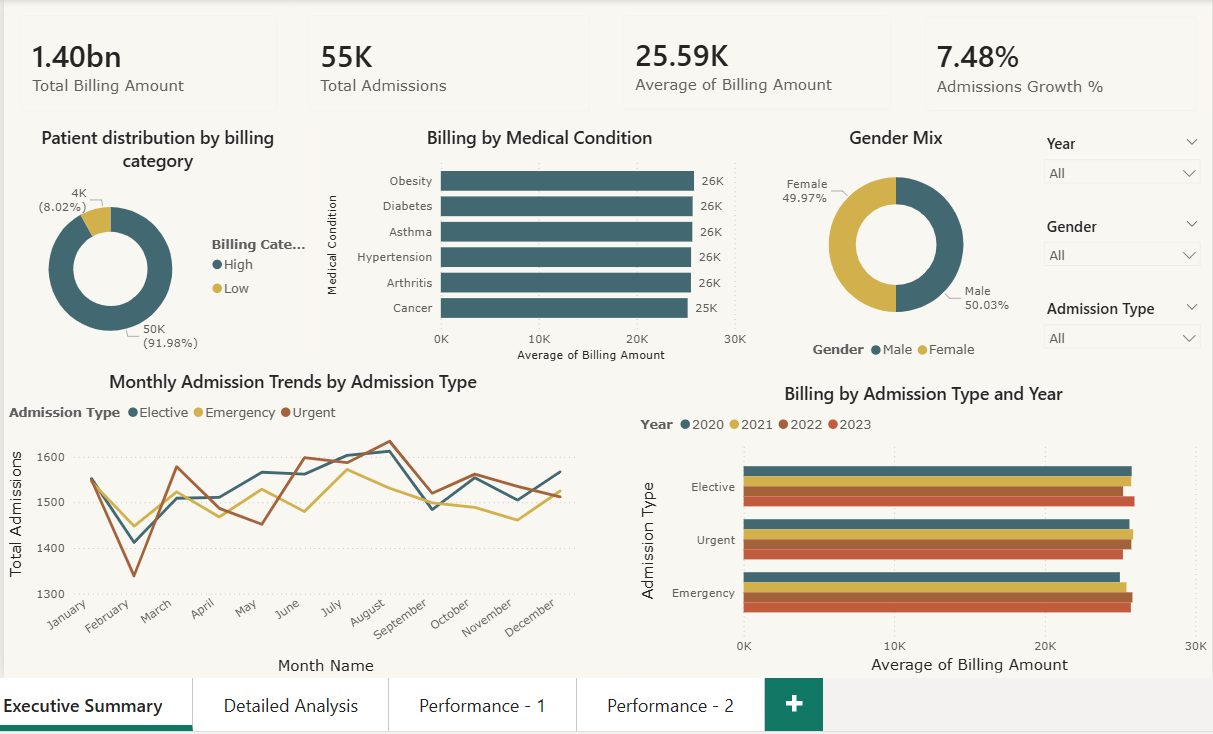

The dashboard page shown, as its layout file describes it:
{"tool":"powerbi","page":{"name":"Executive Summary","canvas":[1280,720],"ordinal":0},"visuals":[{"type":"cardVisual","fields":{"Data":["Measures_Table.Total Billing Amount"]},"box":[0,0,306,136],"z":0},{"type":"cardVisual","fields":{"Data":["Measures_Table.Total Admissions"]},"box":[306,0,333.6,136],"z":1000},{"type":"cardVisual","fields":{"Data":["Avg(Fact_Admissions.Billing Amount)"]},"box":[639.6,0,319,134.4],"z":2000},{"type":"cardVisual","fields":{"Data":["Measures_Table.Admissions Growth %"]},"box":[958.6,1.6,322.2,134.4],"z":3000},{"type":"lineChart","title":"Monthly Admission Trends by  Admission Type","fields":{"Category":["Dim_Date.Month Name"],"Series":["Dim_Admission_Type.Admission Type"],"Y":["Measures_Table.Total Admissions"]},"box":[0,392.9,612.4,327.7],"z":4000},{"type":"clusteredBarChart","title":" Billing by Medical Condition","fields":{"Category":["Fact_Admissions.Medical Condition"],"Y":["Avg(Fact_Admissions.Billing Amount)"]},"box":[336.8,133,461.2,255.3],"z":5000},{"type":"slicer","fields":{"Values":["Dim_Date.Year"]},"box":[1092.7,136.8,186.1,87.5],"z":6000},{"type":"slicer","fields":{"Values":["Dim_Gender.Gender"]},"box":[1092.7,224.3,186.1,81.1],"z":7000},{"type":"slicer","fields":{"Values":["Dim_Admission_Type.Admission Type"]},"box":[1092.7,311.8,186.1,93.8],"z":8000},{"type":"donutChart","title":"Gender Mix ","fields":{"Category":["Dim_Gender.Gender"],"Y":["Measures_Table.Total Admissions"]},"box":[798.5,133.6,294.3,257.7],"z":9000},{"type":"clusteredBarChart","title":" Billing by Admission Type and Year","fields":{"Y":["Avg(Fact_Admissions.Billing Amount)"],"Category":["Fact_Admissions.Admission Type"],"Series":["Dim_Date.Year"]},"box":[669,406.3,610.4,313.7],"z":10000},{"type":"donutChart","title":"Patient distribution by billing category","fields":{"Category":["Dim_Billing_Category.Billing Category"],"Y":["Measures_Table.Total Admissions"]},"box":[0,133,326.1,255.3],"z":11000}]}

Visuals, with their boxes on the page's 1280x720 design canvas (x1, y1, x2, y2). These are canvas units, not pixel positions in the 1213x734 screenshot, which may show the page scaled, cropped or inside an application window:
cardVisual - Measures_Table.Total Billing Amount: 0:0:306:136
cardVisual - Measures_Table.Total Admissions: 306:0:640:136
cardVisual - Avg(Fact_Admissions.Billing Amount): 640:0:959:134
cardVisual - Measures_Table.Admissions Growth %: 959:2:1281:136
"Monthly Admission Trends by  Admission Type" lineChart: 0:393:612:721
" Billing by Medical Condition" clusteredBarChart: 337:133:798:388
slicer - Dim_Date.Year: 1093:137:1279:224
slicer - Dim_Gender.Gender: 1093:224:1279:305
slicer - Dim_Admission_Type.Admission Type: 1093:312:1279:406
"Gender Mix " donutChart: 798:134:1093:391
" Billing by Admission Type and Year" clusteredBarChart: 669:406:1279:720
"Patient distribution by billing category" donutChart: 0:133:326:388
